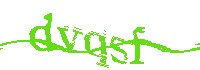d: (29, 13, 52, 52)
f: (130, 26, 144, 65)
q: (85, 30, 108, 68)
s: (110, 36, 127, 64)
v: (58, 26, 82, 53)
